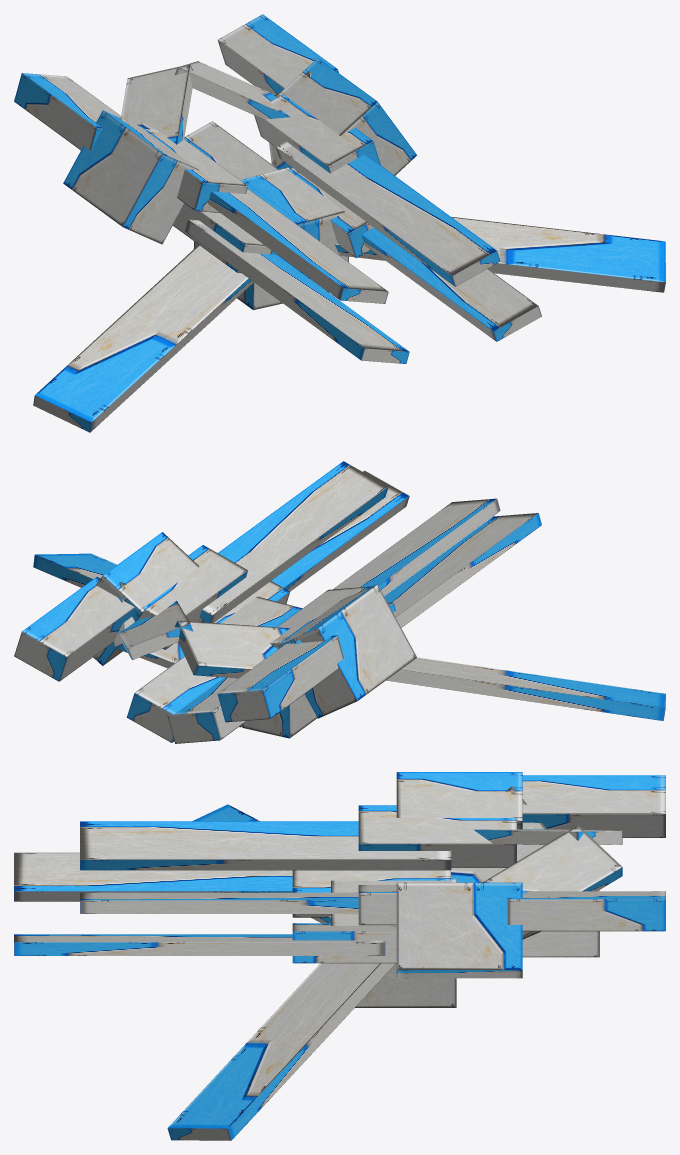
File: F_shipclass3.fbx
The picture shows the model from 3 angles, top to bottom: view 1: azimuth 30°, elevation 25°; view 2: azimuth 150°, elevation 25°; view 3: azimuth 270°, elevation 25°; orthographic projection. The views are drawn at different scales.
Visible parts, largest first — view 1: Friendlyship03; view 2: Friendlyship03; view 3: Friendlyship03.
Part boxes in pixels (x1,y1,x2,y2): Friendlyship03: (14, 14, 665, 432); Friendlyship03: (14, 461, 665, 743); Friendlyship03: (14, 772, 665, 1140).
Size of the model in its own units: 743 by 176 by 631.
Materials: 1 (1 with a texture image).
